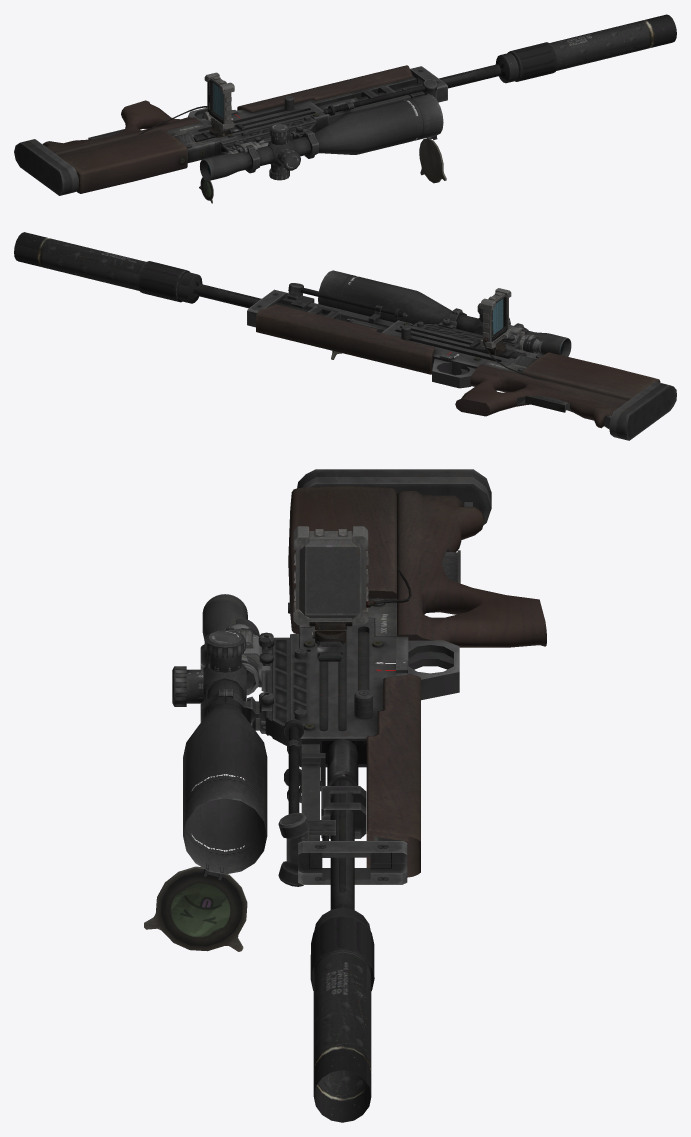
File: viewmodel_wa2000_LOD0.obj
3 renders of one model, top to bottom at view 1: azimuth 30°, elevation 25°; view 2: azimuth 150°, elevation 25°; view 3: azimuth 270°, elevation 25°, orthographic. The views are drawn at different scales.
Visible parts, largest first — view 1: mtl_weapon_wa2000_rifle_wood, mtl_weapon_wa2000_scope, mtl_weapon_suppressor_b, mtl_weapon_motion_tracker, mtl_motion_tracker_screen; view 2: mtl_weapon_wa2000_rifle_wood, mtl_weapon_suppressor_b, mtl_weapon_wa2000_scope, mtl_weapon_motion_tracker, mtl_weapon_thermal_sight_2, mtl_motion_tracker_screen; view 3: mtl_weapon_wa2000_rifle_wood, mtl_weapon_wa2000_scope, mtl_weapon_suppressor_b, mtl_weapon_motion_tracker, mtl_weapon_thermal_sight_2.
Boxes of the visible parts, <box> form: mtl_weapon_wa2000_rifle_wood: <box>14,64,500,195</box>; mtl_weapon_wa2000_scope: <box>199,94,446,203</box>; mtl_weapon_suppressor_b: <box>495,14,676,83</box>; mtl_weapon_motion_tracker: <box>138,72,245,142</box>; mtl_motion_tracker_screen: <box>213,83,223,118</box>; mtl_weapon_wa2000_rifle_wood: <box>197,283,676,440</box>; mtl_weapon_suppressor_b: <box>14,232,202,303</box>; mtl_weapon_wa2000_scope: <box>318,270,571,359</box>; mtl_weapon_motion_tracker: <box>469,288,554,382</box>; mtl_weapon_thermal_sight_2: <box>509,324,538,354</box>; mtl_motion_tracker_screen: <box>492,298,503,334</box>; mtl_weapon_wa2000_rifle_wood: <box>265,469,546,909</box>; mtl_weapon_wa2000_scope: <box>144,594,274,951</box>; mtl_weapon_suppressor_b: <box>310,907,374,1122</box>; mtl_weapon_motion_tracker: <box>293,526,411,661</box>; mtl_weapon_thermal_sight_2: <box>226,618,271,695</box>.
Size of the model in its own units: 153 by 29.01 by 43.28.
